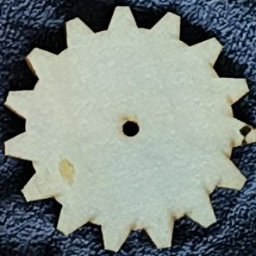Points: (237, 124, 252, 146)
